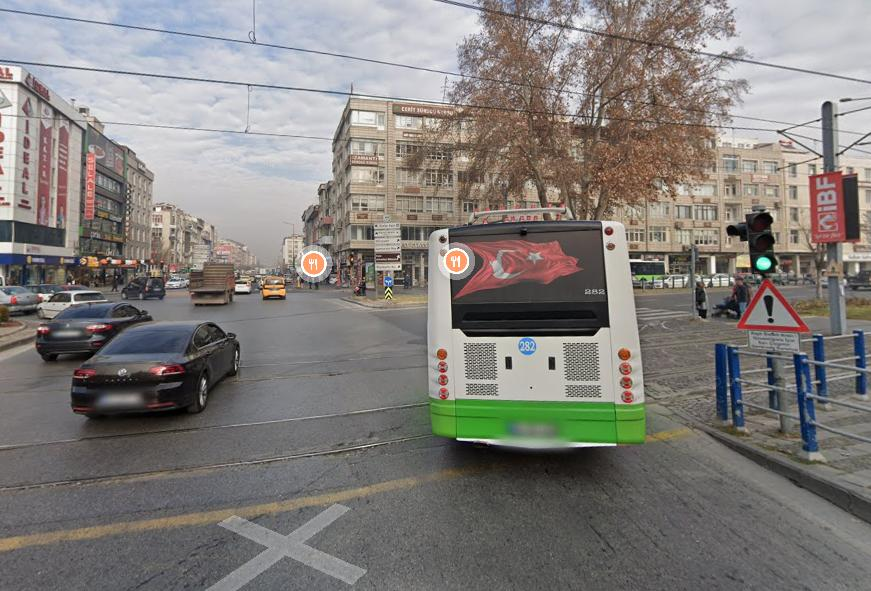greenlight: (749, 212, 780, 272)
